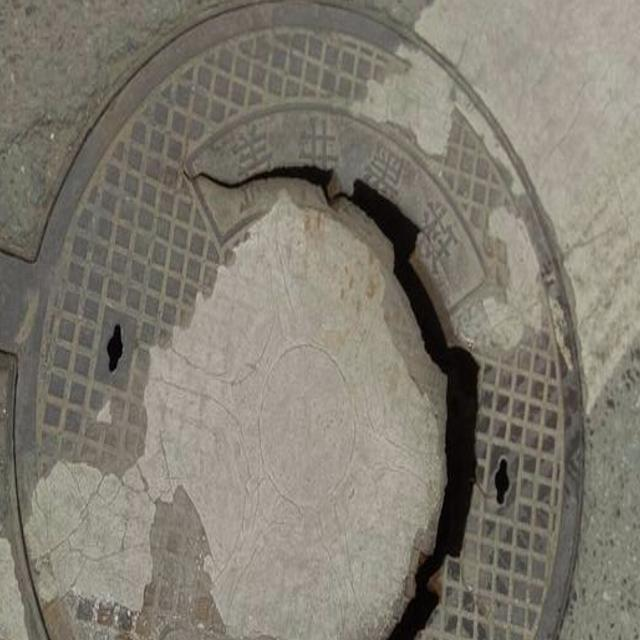broke: (0, 0, 600, 640)
